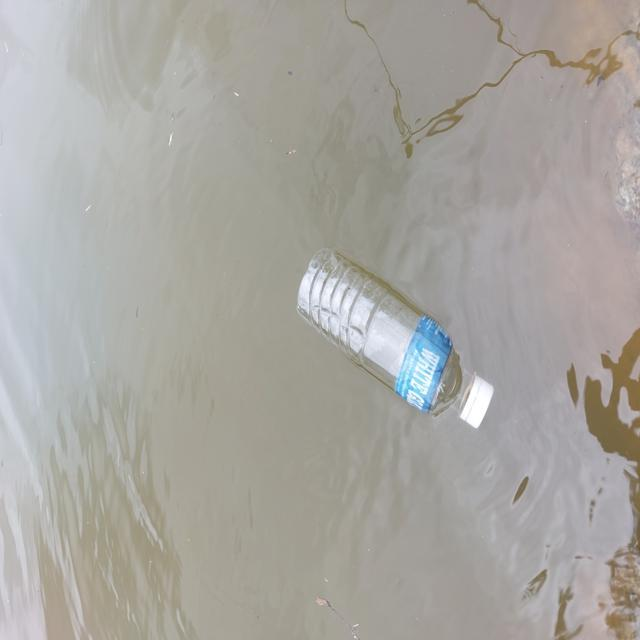waterbottle: (292, 239, 512, 446)
